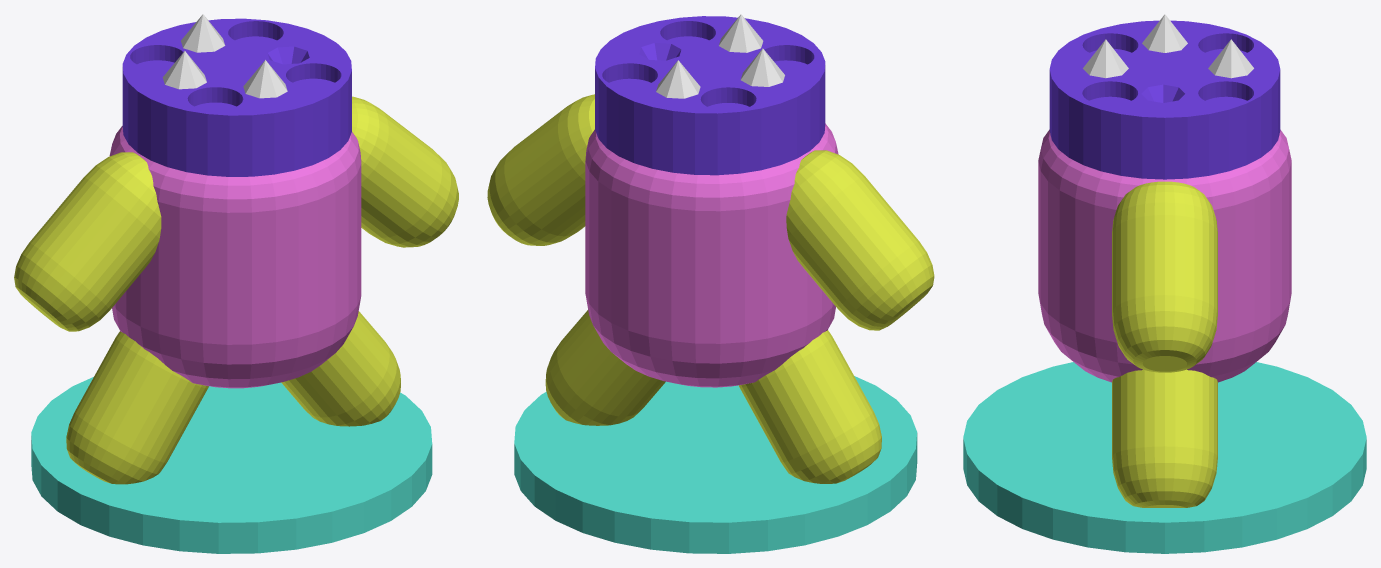
Rendered from wip_robot_without_negate.glb.
The picture shows the model from 3 angles, left to right: view 1: azimuth 30°, elevation 25°; view 2: azimuth 150°, elevation 25°; view 3: azimuth 270°, elevation 25°; orthographic projection.
Visible parts, largest first — view 1: Cylinder, Cylinder.006, Cylinder.001, Cylinder.003, Cylinder.005, Cylinder.002, Cylinder.004, Cone.001, Cone, Cone.002; view 2: Cylinder, Cylinder.006, Cylinder.001, Cylinder.003, Cylinder.005, Cylinder.002, Cylinder.004, Cone.001, Cone.002, Cone; view 3: Cylinder.006, Cylinder, Cylinder.001, Cylinder.002, Cylinder.004, Cone.002, Cone, Cone.001.
Boxes of the visible parts, x1=… form: Cylinder: x1=109, y1=126, x2=361, y2=388; Cylinder.006: x1=31, y1=377, x2=432, y2=553; Cylinder.001: x1=122, y1=18, x2=351, y2=176; Cylinder.003: x1=14, y1=152, x2=161, y2=331; Cylinder.005: x1=66, y1=331, x2=208, y2=484; Cylinder.002: x1=352, y1=96, x2=458, y2=247; Cylinder.004: x1=281, y1=311, x2=400, y2=426; Cone.001: x1=181, y1=14, x2=225, y2=52; Cone: x1=162, y1=51, x2=206, y2=89; Cone.002: x1=243, y1=60, x2=287, y2=98; Cylinder: x1=585, y1=123, x2=838, y2=387; Cylinder.006: x1=514, y1=376, x2=917, y2=553; Cylinder.001: x1=595, y1=16, x2=825, y2=175; Cylinder.003: x1=786, y1=150, x2=934, y2=330; Cylinder.005: x1=738, y1=330, x2=881, y2=483; Cylinder.002: x1=487, y1=94, x2=594, y2=245; Cylinder.004: x1=545, y1=310, x2=665, y2=425; Cone.001: x1=656, y1=60, x2=700, y2=98; Cone.002: x1=719, y1=14, x2=763, y2=52; Cone: x1=740, y1=48, x2=784, y2=86; Cylinder.006: x1=963, y1=362, x2=1366, y2=553; Cylinder: x1=1038, y1=129, x2=1291, y2=382; Cylinder.001: x1=1049, y1=20, x2=1280, y2=179; Cylinder.002: x1=1112, y1=181, x2=1217, y2=372; Cylinder.004: x1=1112, y1=369, x2=1217, y2=507; Cone.002: x1=1083, y1=39, x2=1128, y2=78; Cone: x1=1142, y1=14, x2=1187, y2=52; Cone.001: x1=1208, y1=39, x2=1253, y2=78.
Bounding box in the file's own units: 28.92 × 27.63 × 23.4.
